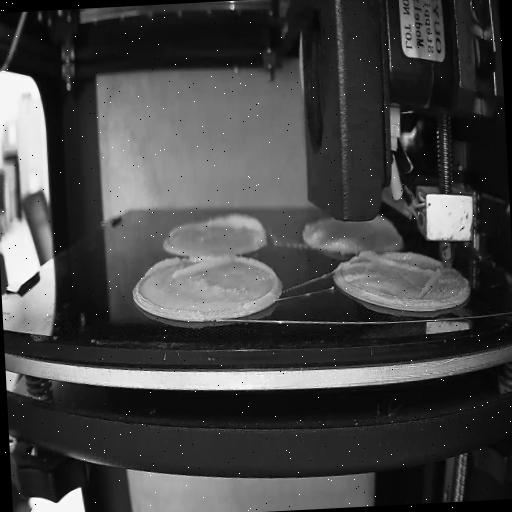over_extrusion: (142, 253, 234, 282), (208, 206, 268, 248), (236, 254, 278, 310), (358, 244, 416, 276), (420, 266, 442, 301)
